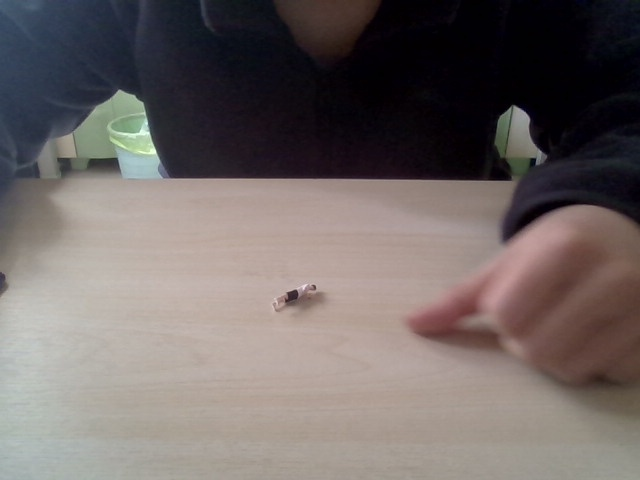fall: (267, 278, 322, 317)
